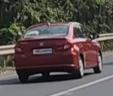Car: (14, 20, 106, 83)
